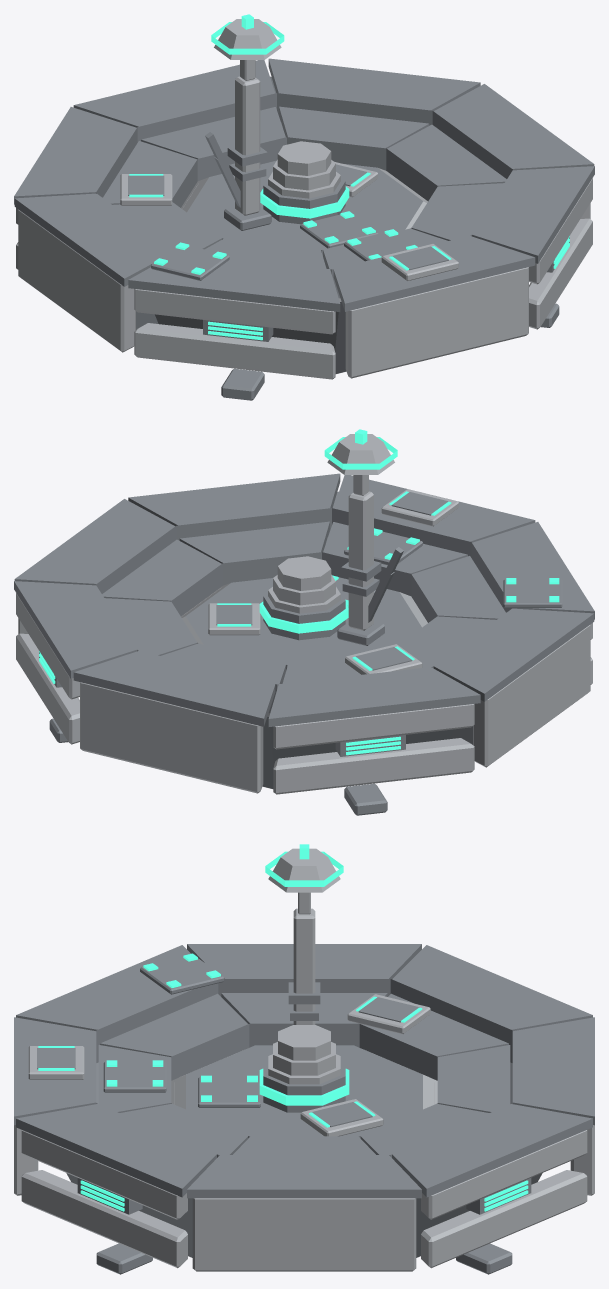
File: module_forms.glb
3 renders of one model, top to bottom at view 1: azimuth 30°, elevation 25°; view 2: azimuth 150°, elevation 25°; view 3: azimuth 270°, elevation 25°, orthographic. The views are drawn at different scales.
Visible parts, largest first — view 1: module_form_2, module_form_1, module_form_0; view 2: module_form_2, module_form_1, module_form_0; view 3: module_form_2, module_form_1, module_form_0.
Part boxes in pixels (box(x1,y1,x2,y2)): module_form_2: box(14, 14, 594, 400); module_form_1: box(103, 106, 506, 301); module_form_0: box(181, 160, 427, 249); module_form_2: box(14, 429, 594, 815); module_form_1: box(102, 521, 505, 716); module_form_0: box(181, 575, 427, 664); module_form_2: box(14, 844, 594, 1274); module_form_1: box(98, 993, 510, 1154); module_form_0: box(171, 1045, 437, 1136).
Size of the model in its own units: 4.8 by 2.84 by 4.8.
